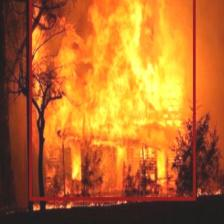fire: (29, 0, 195, 200)
